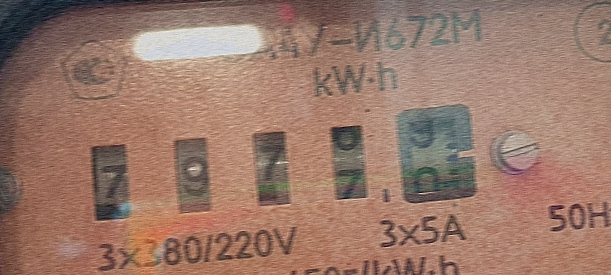0: (409, 155, 446, 197)
7: (97, 155, 132, 201), (255, 135, 290, 181), (334, 160, 368, 199)
9: (176, 147, 214, 196), (406, 108, 440, 147)
screen: (66, 77, 506, 257)
